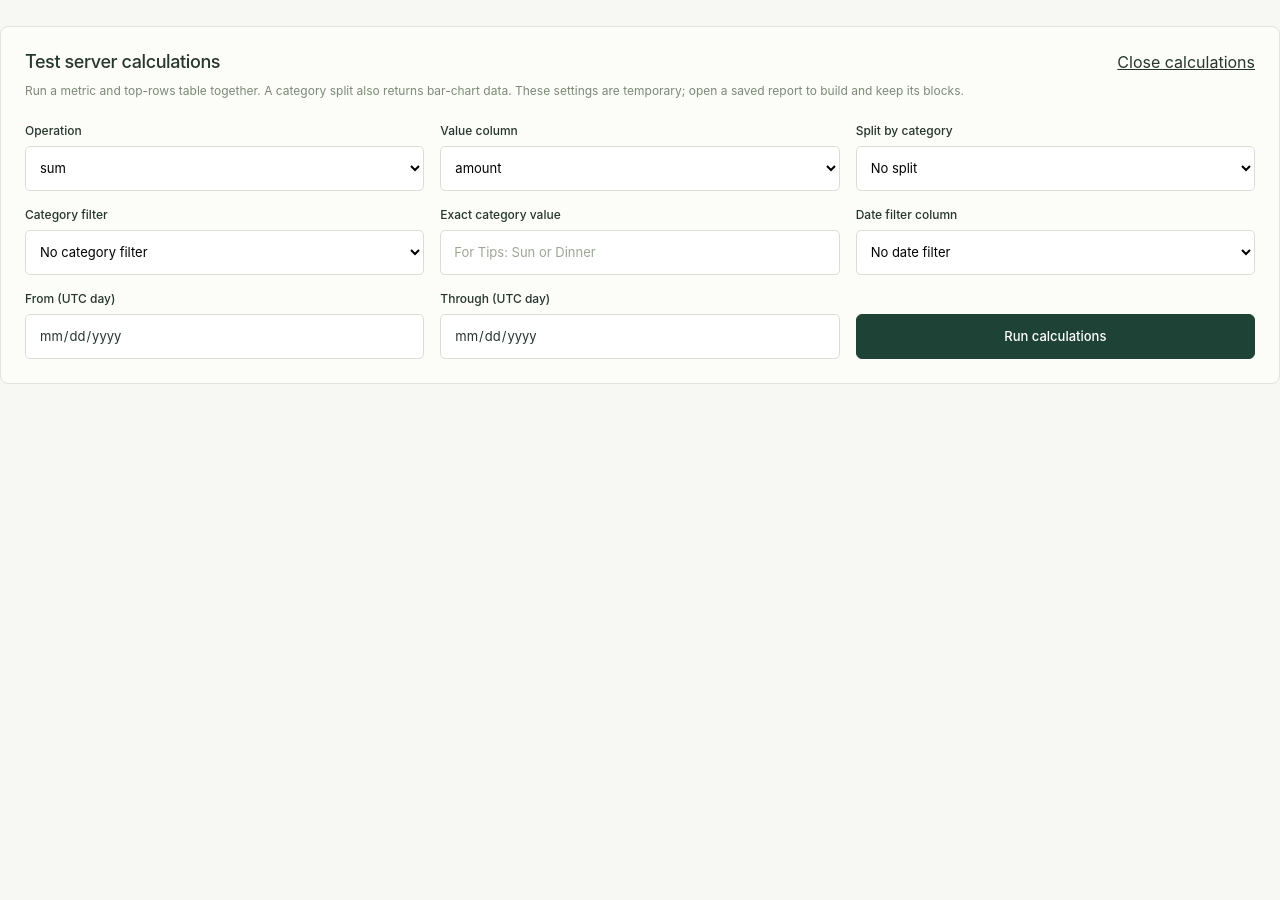
batches calculations with a dataset version and shared filter, displays exact server values and query
expect the dropdown labelled "Operation" is shown: met, box [25,146,424,191]
Select "day" in the dropdown labelled "Split by category" at (1055, 168), box [856,146,1255,191]
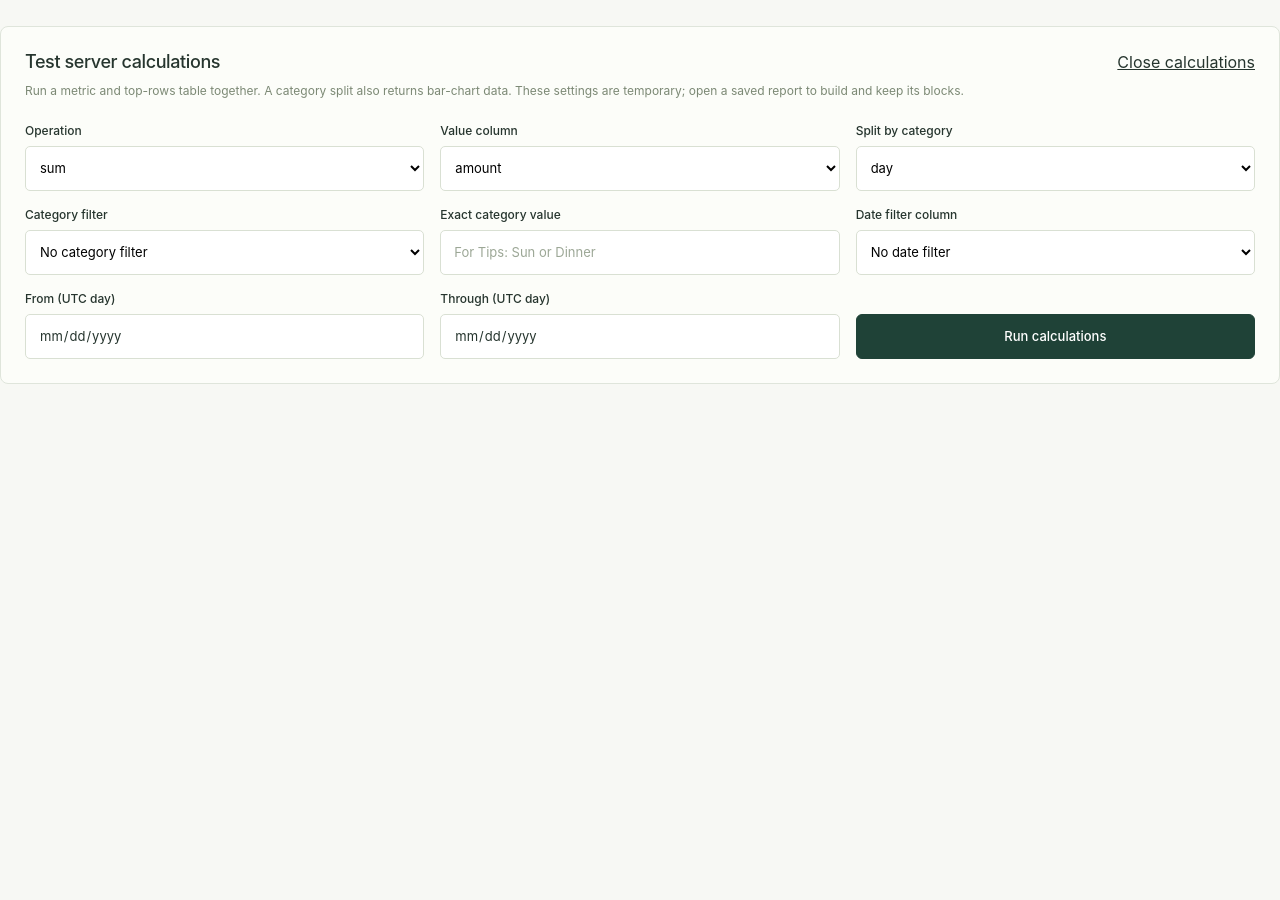
Select "day" in the dropdown labelled "Category filter" at (225, 252), box [25,230,424,275]
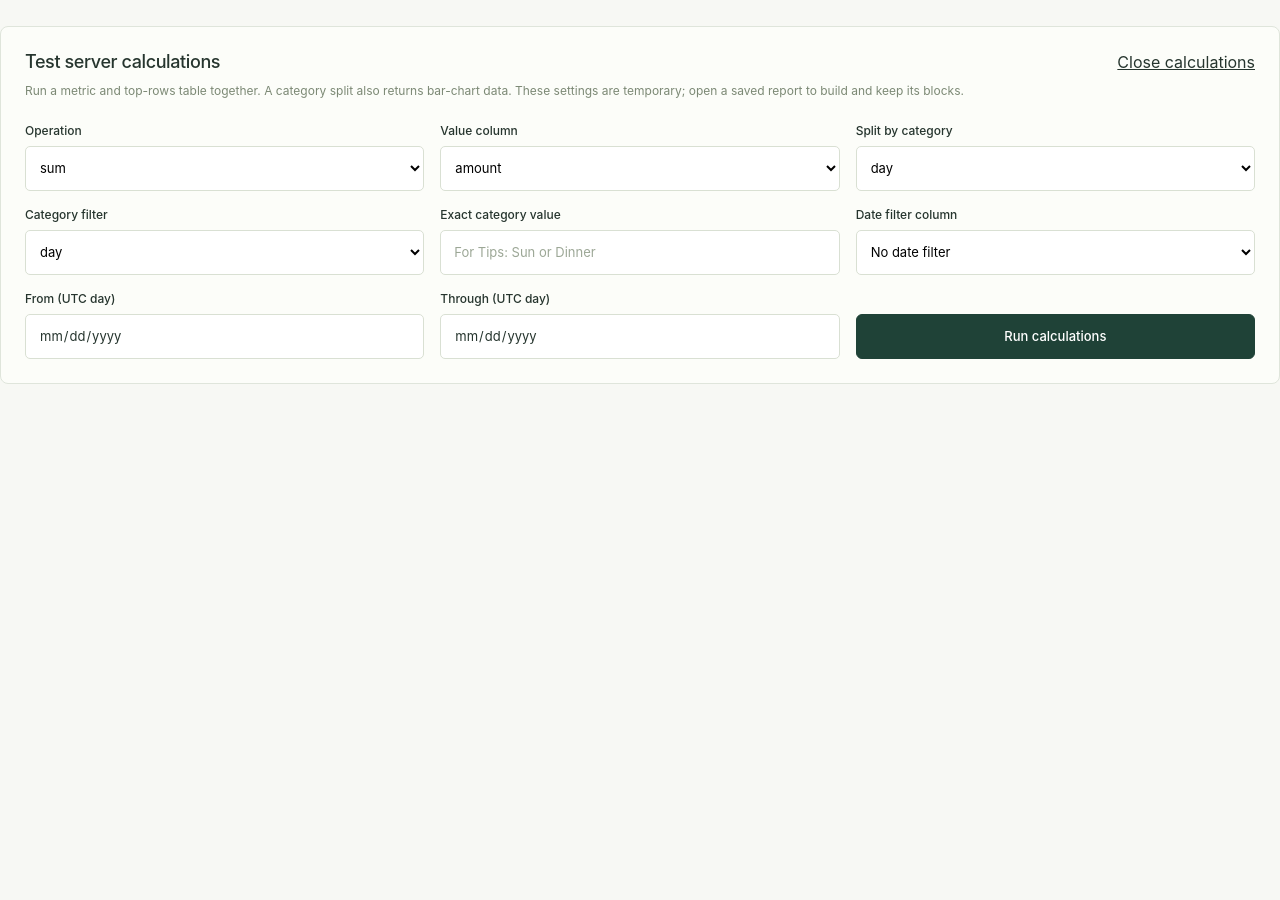
Type "Sun" into the field labelled "Exact category value" at (640, 252), box [440,230,840,275]
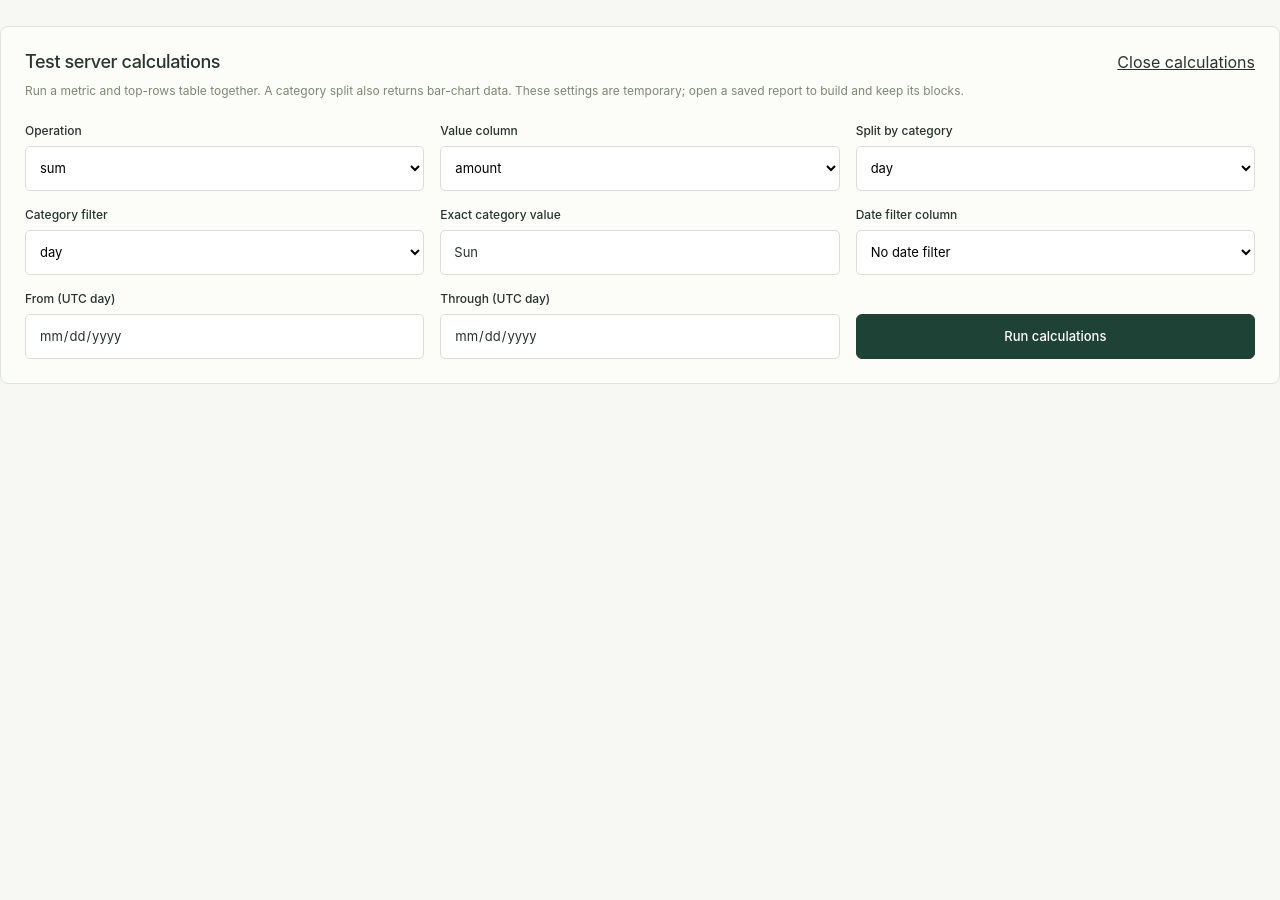
Click the button "Run calculations" at (1055, 336), box [856,314,1255,359]
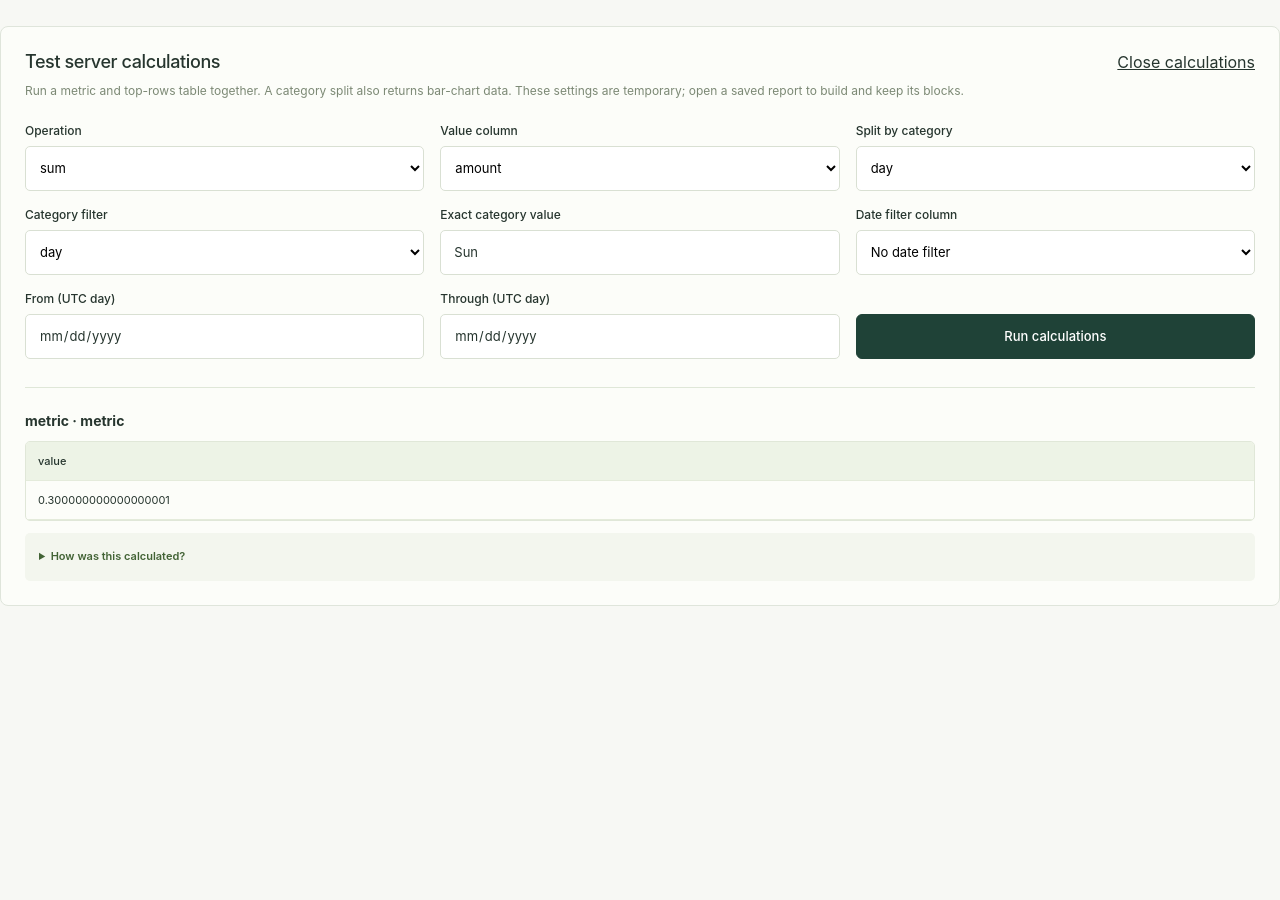
expect the text "0.300000000000000001" is shown: met, box [26,480,1254,519]
Click the heading "How was this calculated?" at (118, 556), box [51,549,185,563]
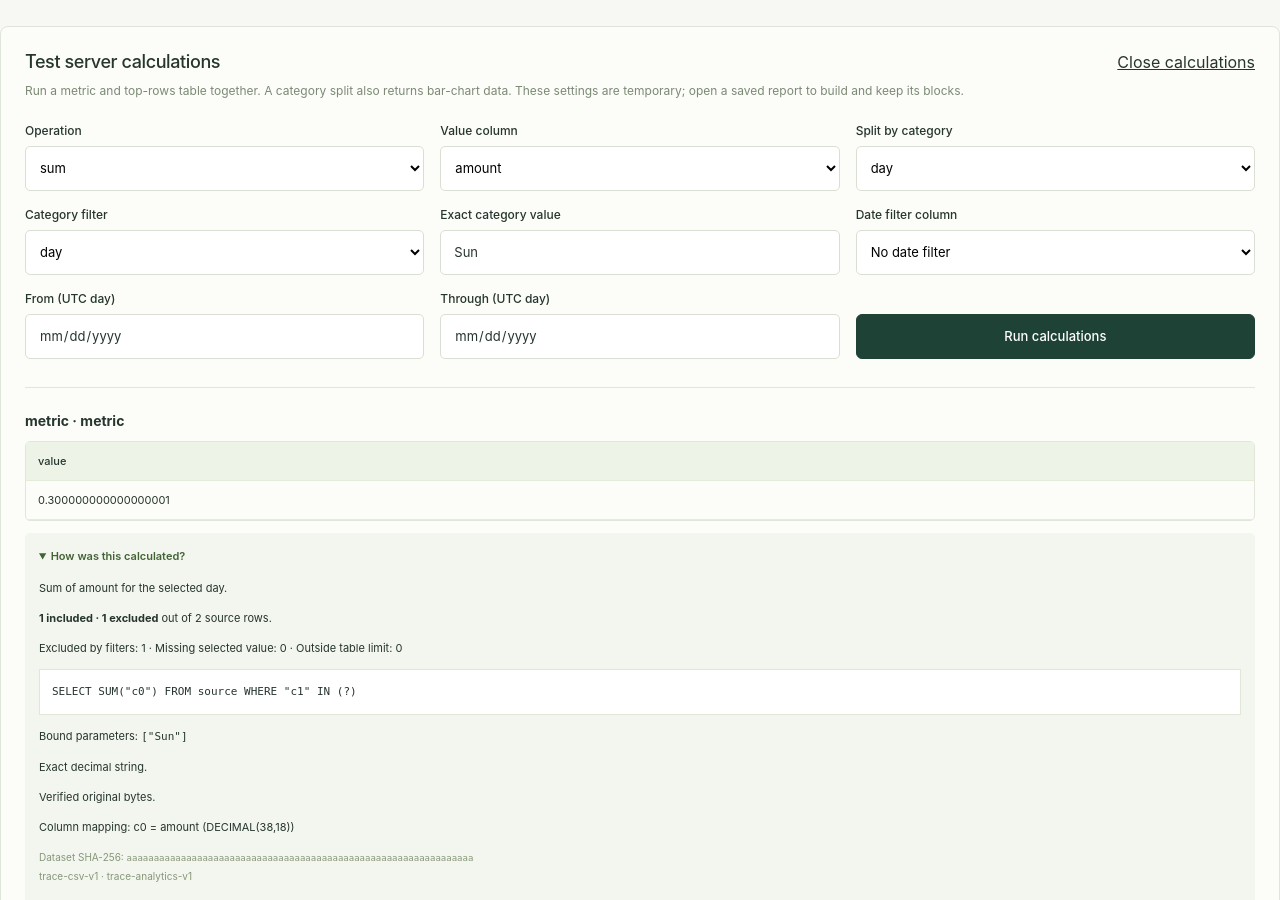
expect the text "SELECT SUM(\"c0\") FROM source WHERE \"c1\" IN (?)" is shown: met, box [39,669,1241,715]
expect the text "1 included · 1 excluded" is shown: met, box [39,611,158,625]
Select "average" in the dropdown labelled "Operation" at (225, 168), box [25,146,424,191]
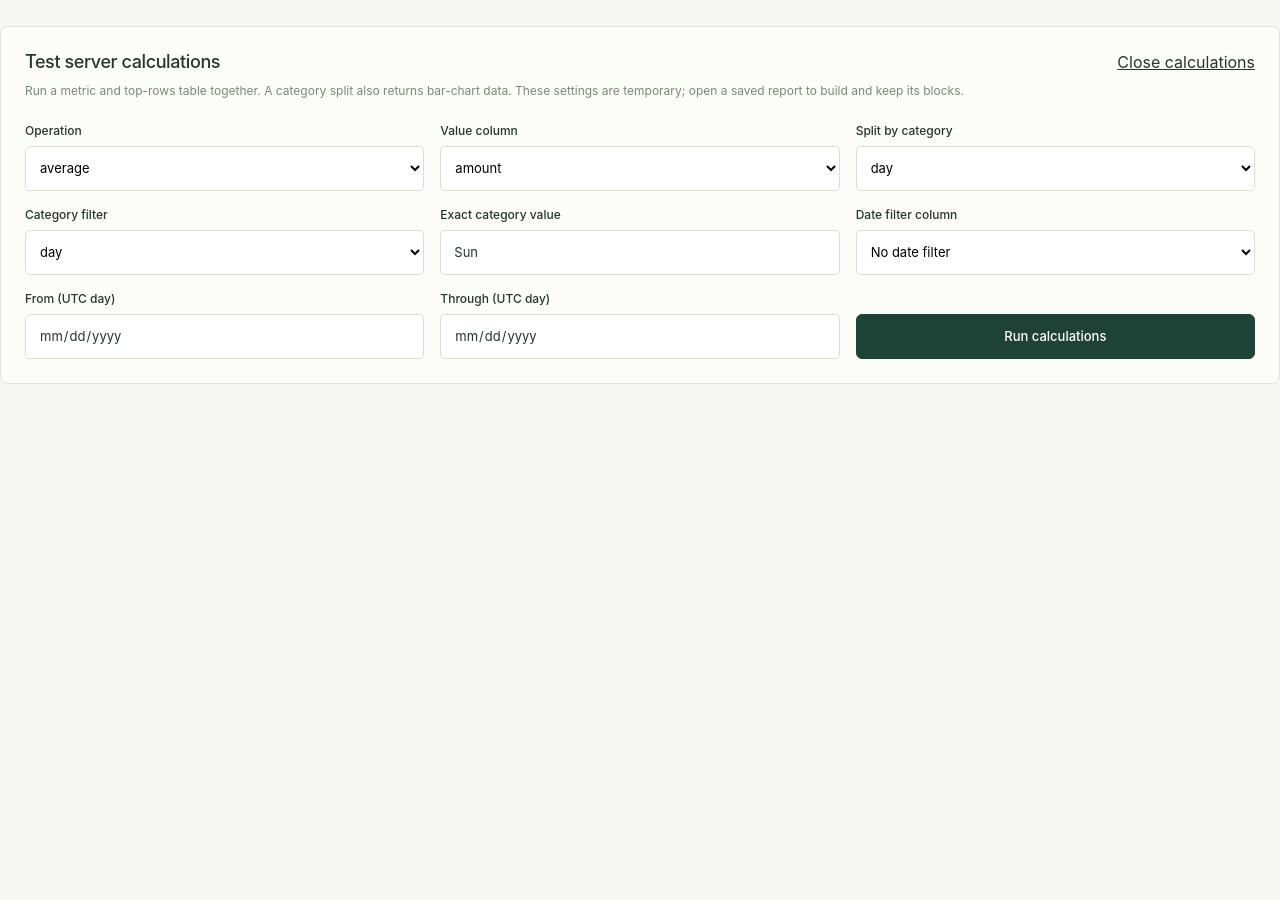
expect the text "0.300000000000000001" is gone: met
